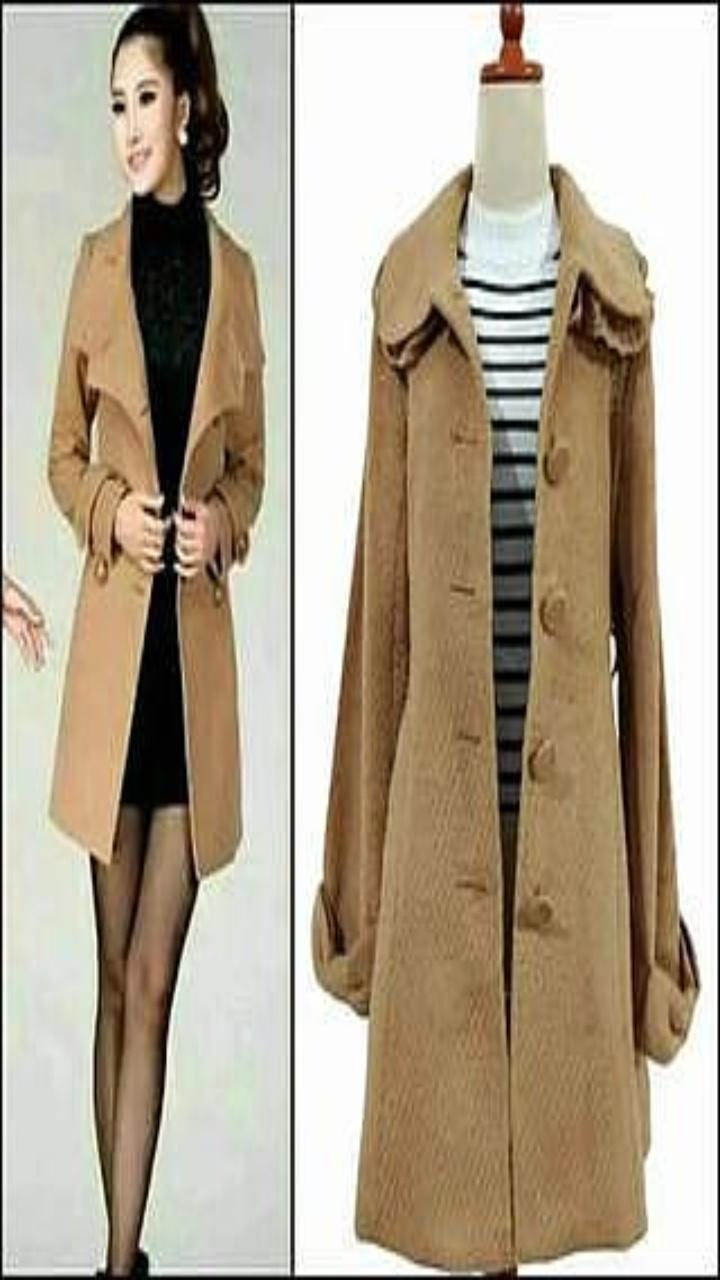Coat: (313, 165, 699, 1269), (177, 206, 263, 877)
Dresses: (458, 188, 559, 820), (132, 186, 209, 516)
